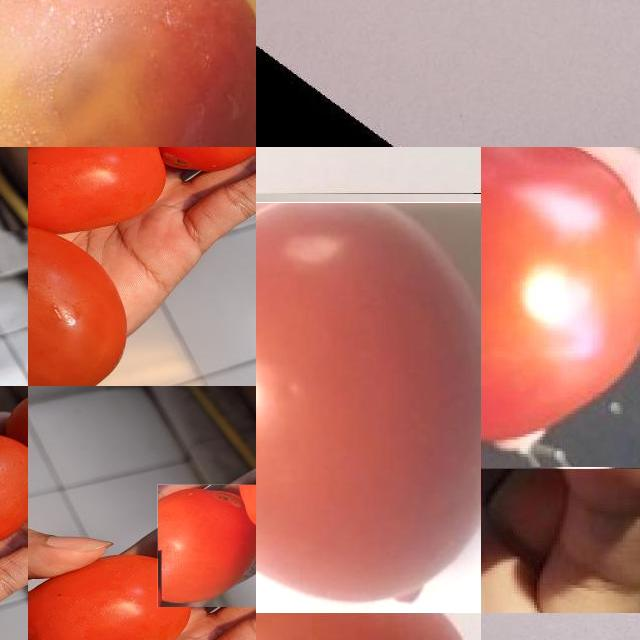Fresh Tomato: (256, 202, 481, 613), (481, 147, 640, 467), (0, 0, 256, 147), (28, 549, 194, 640), (157, 484, 256, 607)
